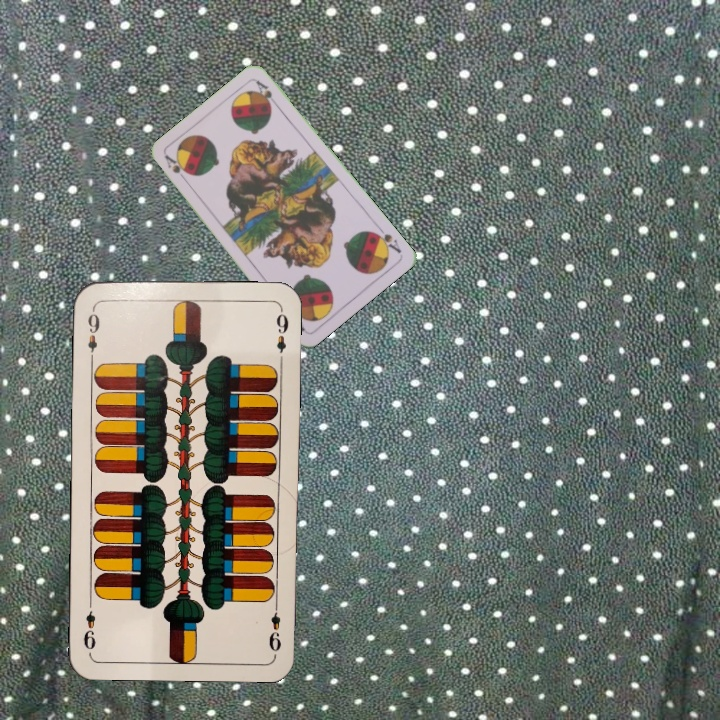E9: (83, 304, 103, 363), (264, 597, 283, 655)
SA: (368, 222, 404, 256), (161, 151, 191, 186)
